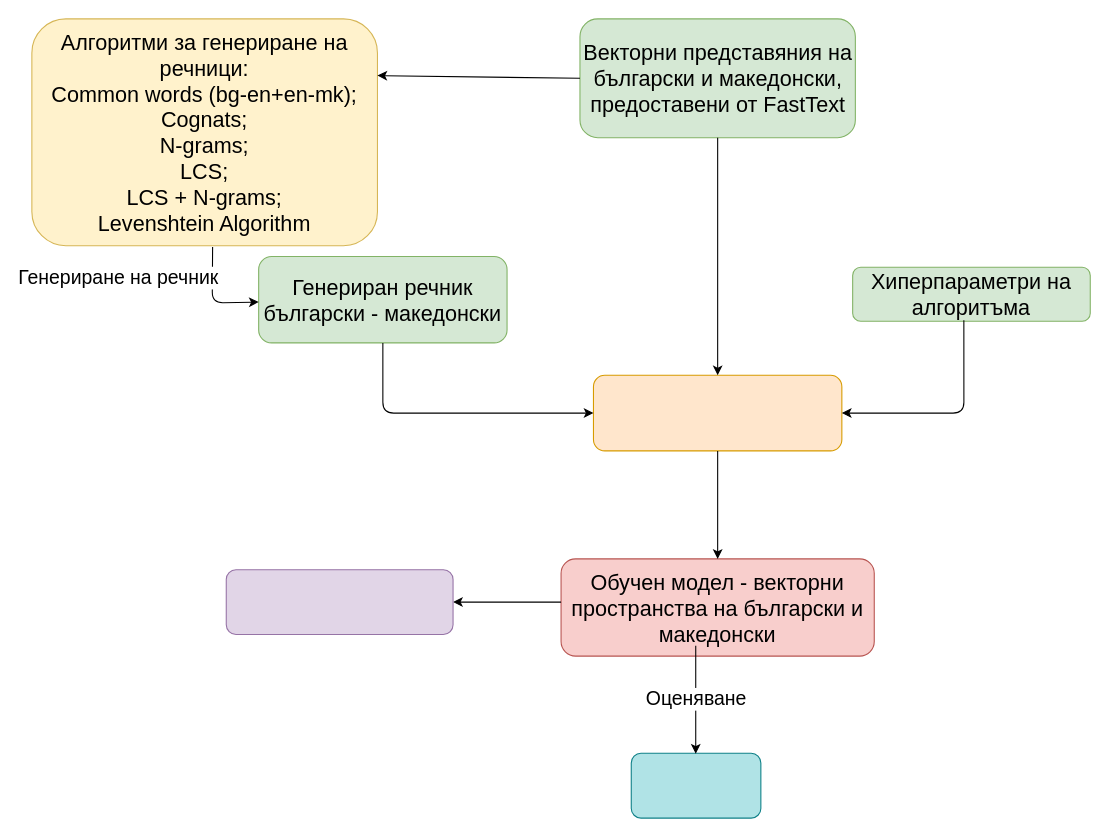
Image size: 1109x837. Some labels were removed from this diagram. The centre of each missing label's shape, as x and y in pixels:
Визуализация на двойки от речника: (x=339, y=601)
Итеративно обучение на модел: (x=717, y=412)
Прецизност: (x=695, y=785)
